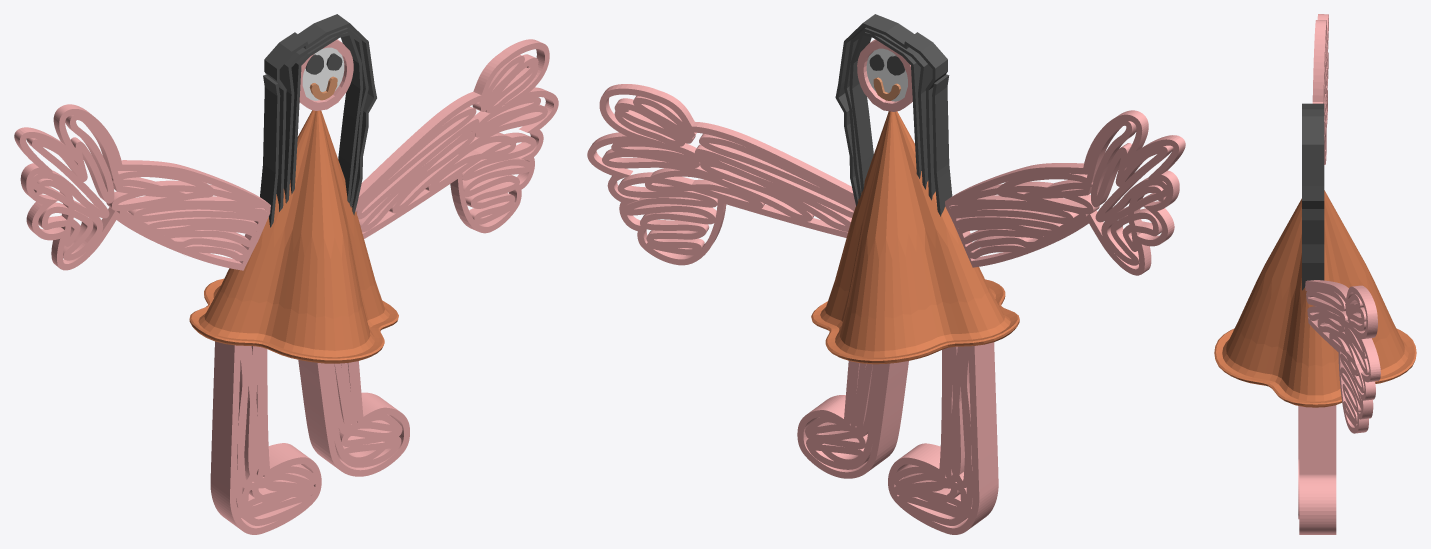
The model's file is robot.glb.
The picture shows the model from 3 angles, left to right: view 1: azimuth 30°, elevation 25°; view 2: azimuth 150°, elevation 25°; view 3: azimuth 270°, elevation 25°; orthographic projection. The views are drawn at different scales.
Parts seen in each view (by area): view 1: robot1; view 2: robot1; view 3: robot1.
Part boxes in pixels (bbox=[...]): robot1: bbox=[14, 14, 558, 534]; robot1: bbox=[587, 14, 1185, 534]; robot1: bbox=[1214, 14, 1416, 534].
Bounding box in the file's own units: 2.31 × 1.89 × 0.7974.
